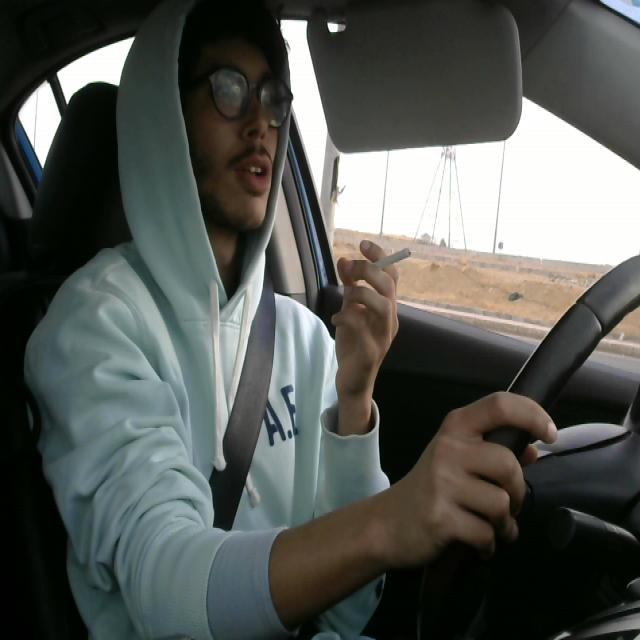smoking: (354, 245, 414, 288)
